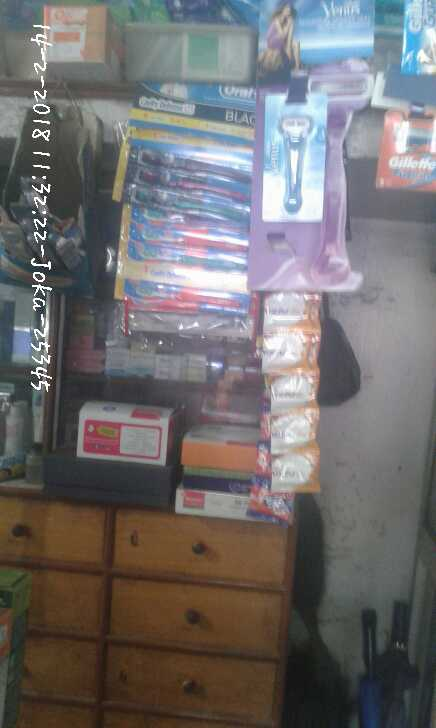venus: (269, 100, 328, 222)
